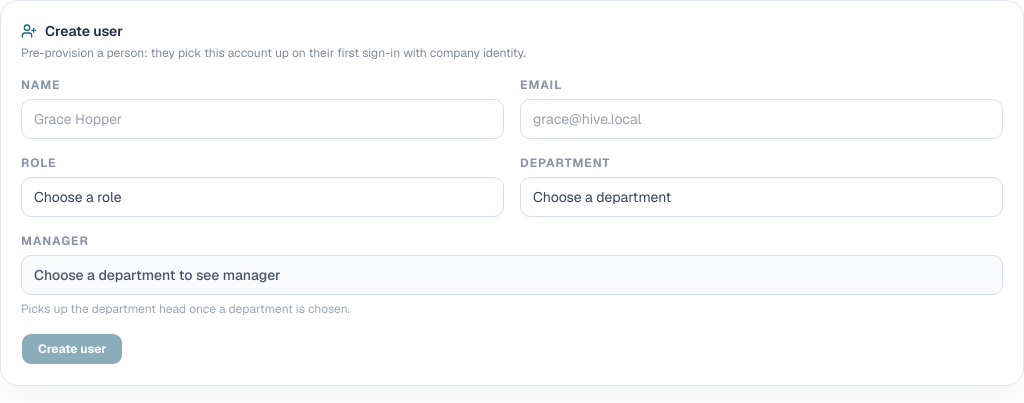
Test case: UserCreateForm › displays no manager assigned when a headless department is picked
Select "Engineering" in the dropdown labelled "Department" at (762, 197), box [520,177,1003,217]
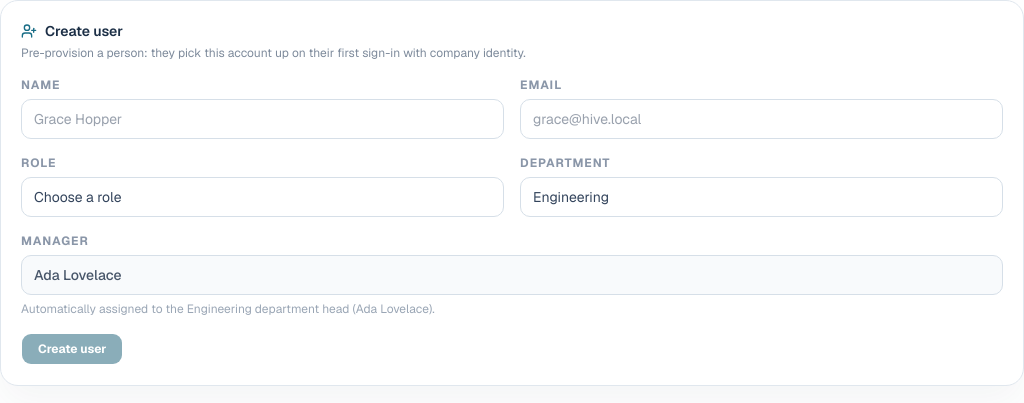
Select "Legacy (no head)" in the dropdown labelled "Department" at (762, 197), box [520,177,1003,217]
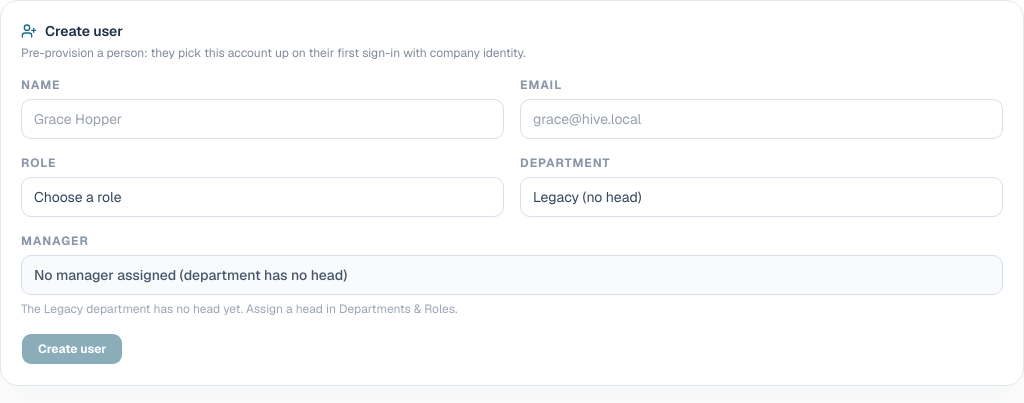
Now the field labelled "Manager" holds "No manager assigned (department has no head)", box [21,255,1003,295]
Now the text "The Legacy department has no head yet. Assign a head in Departments & Roles." is shown, box [21,301,457,317]
